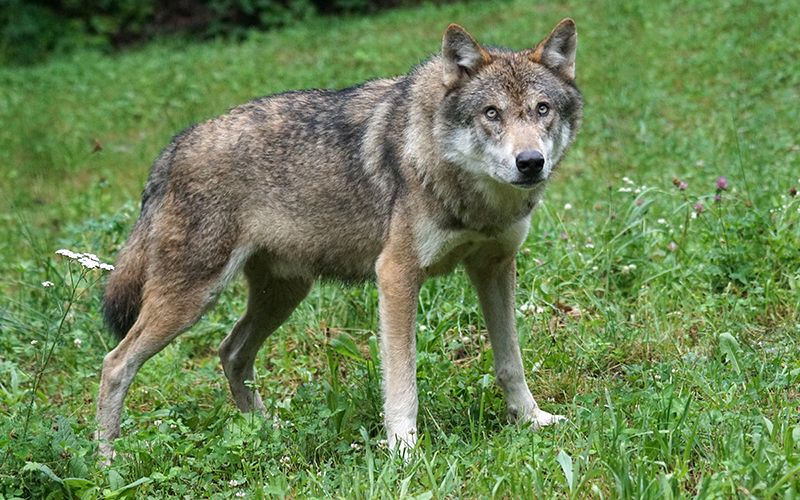wolf: (95, 24, 603, 446)
